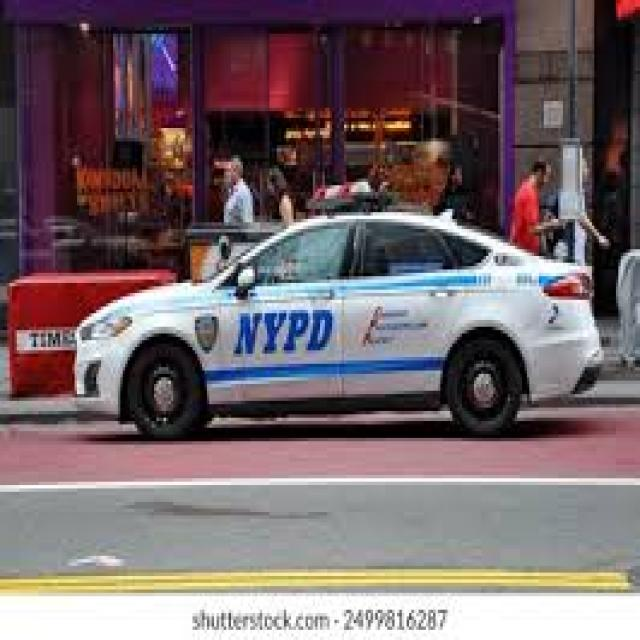cop: (70, 196, 604, 438)
